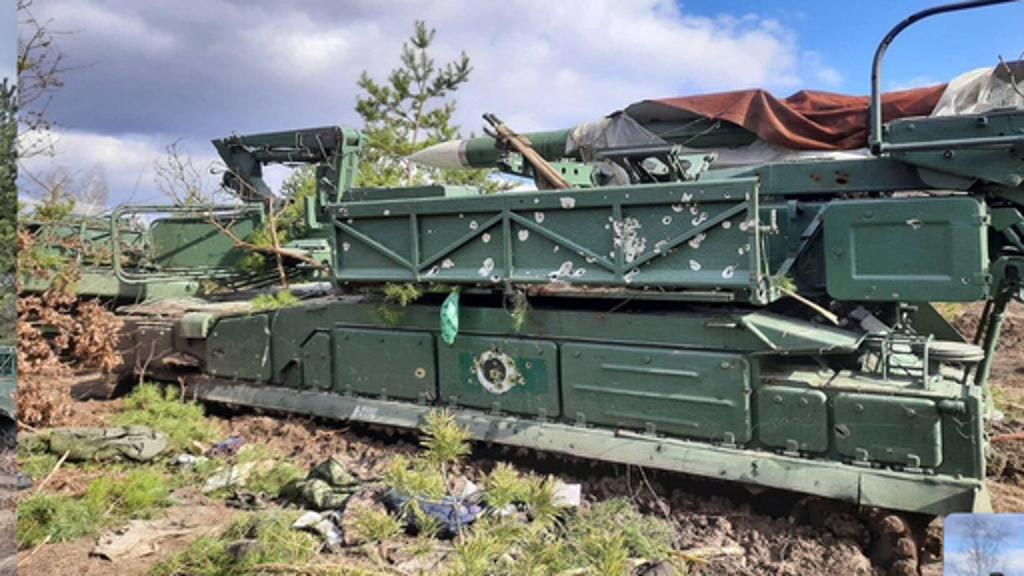MLRS: (102, 48, 1008, 550)
